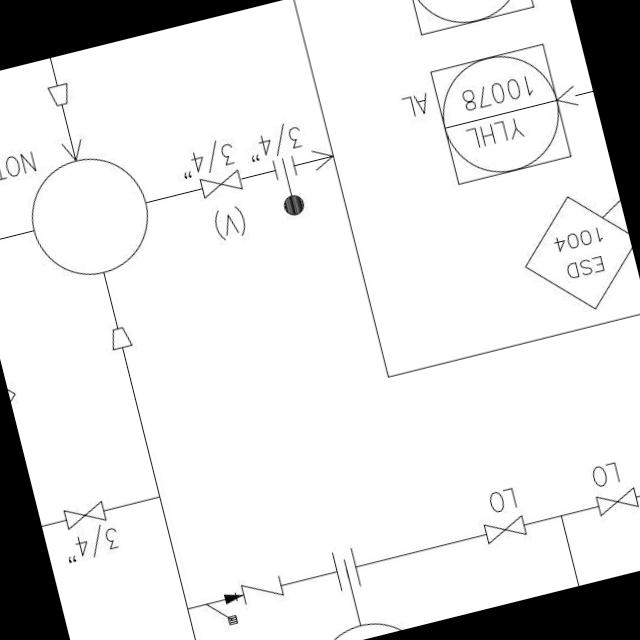GV: (476, 509, 538, 548), (54, 497, 112, 538), (192, 164, 250, 202), (589, 483, 640, 519)
SP: (98, 318, 140, 356), (41, 75, 75, 114)
